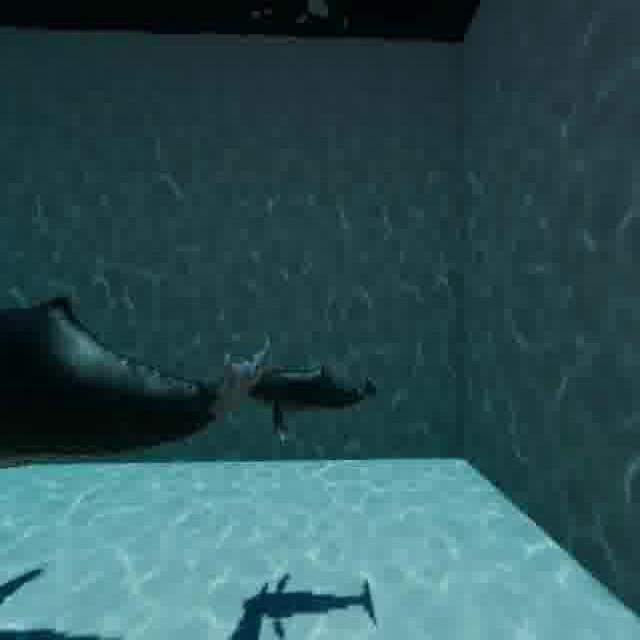Whale: (0, 274, 273, 483), (238, 349, 383, 448)
